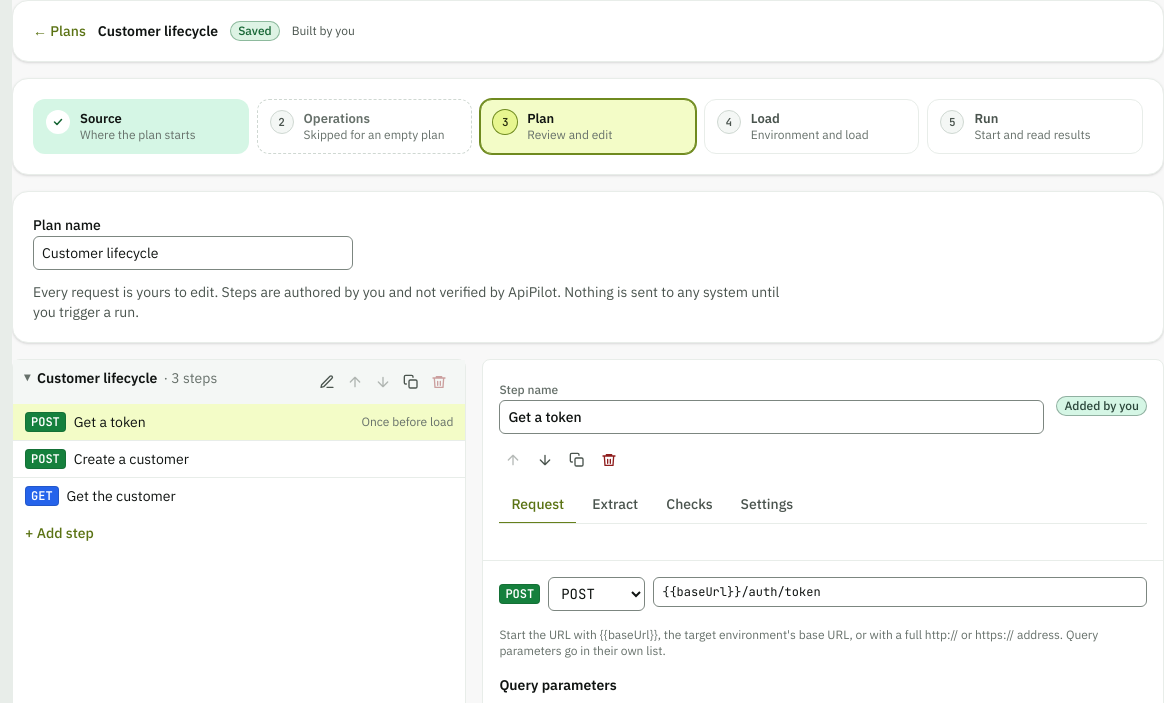
Test: the plan's chains on the Plan step › adds a step to a chain and saves the whole plan with a new id
expect the field labelled "Plan name" is shown: met, box [33,236,353,270]
Click the button "+ Add step": (59, 533) [25,523,94,543]
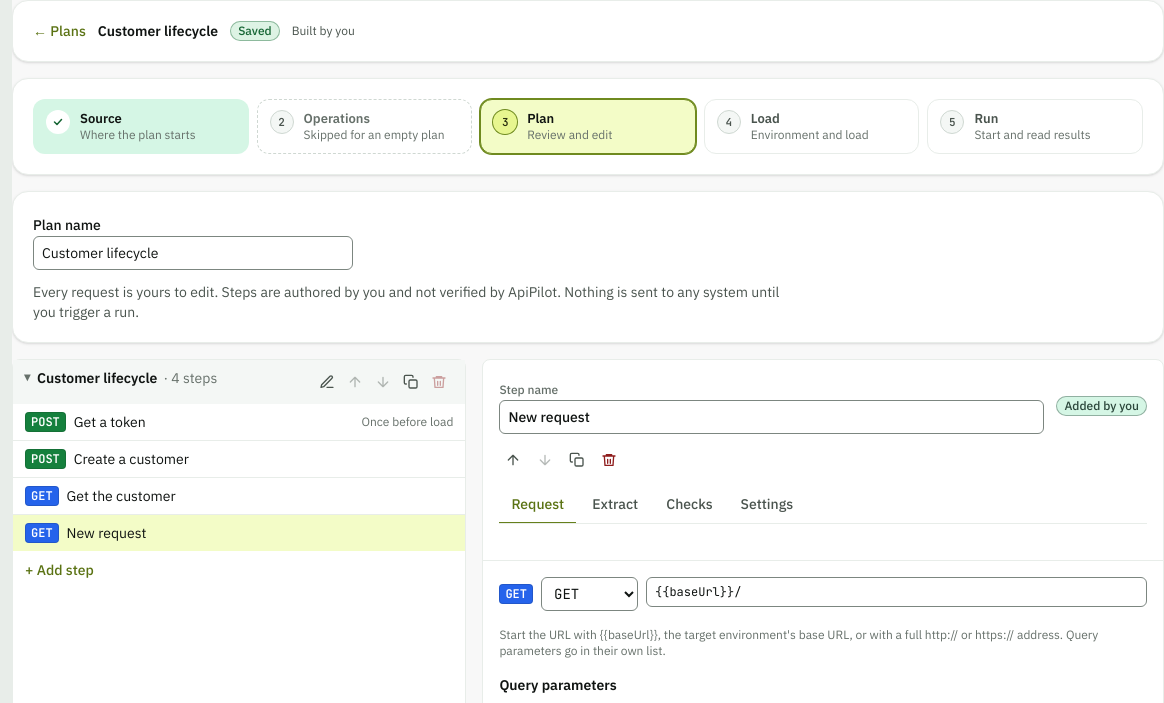
expect the field labelled "Step name" holds "New request": met, box [499,400,1044,434]
